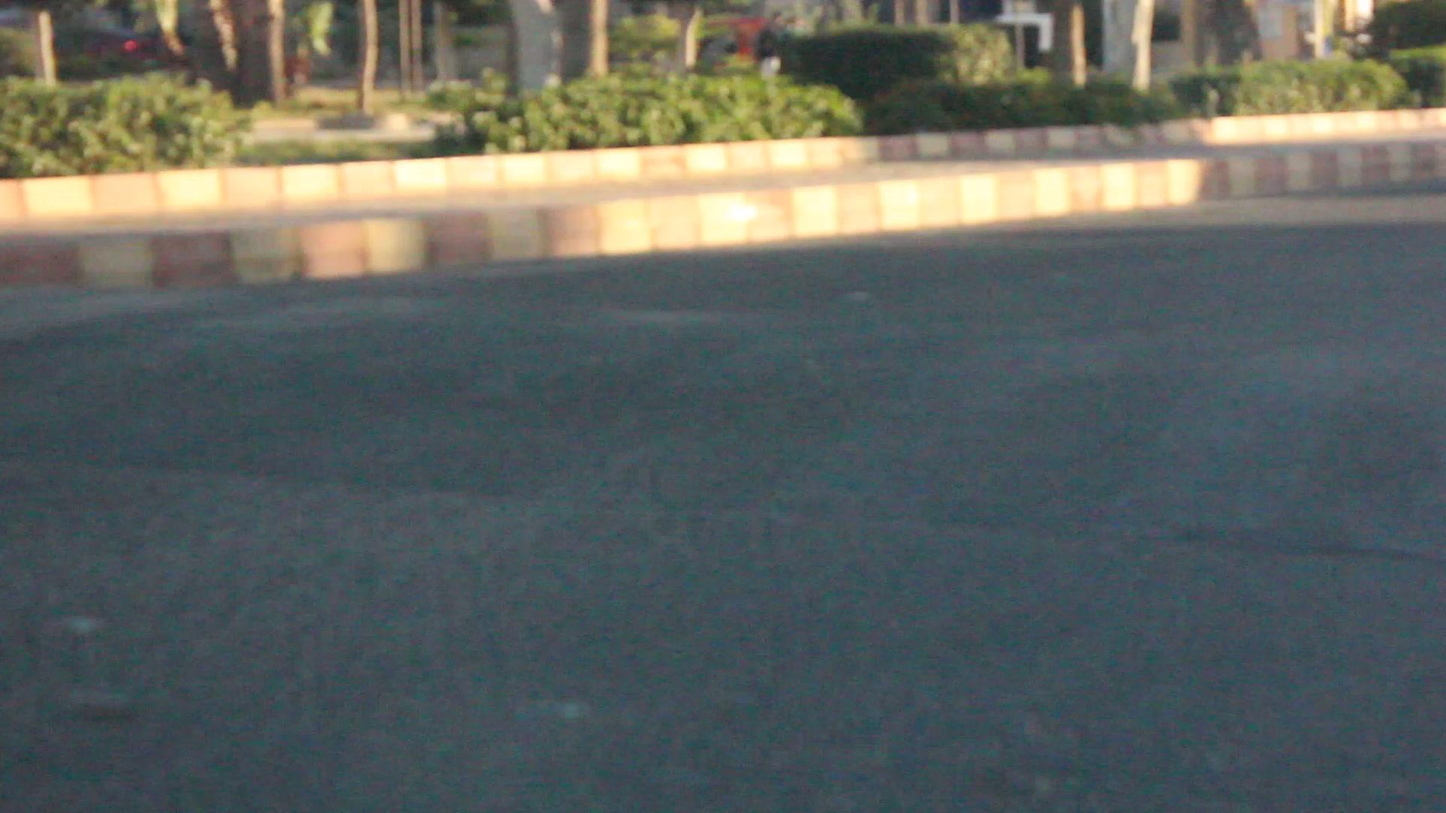Bump: (2, 284, 1445, 561)
